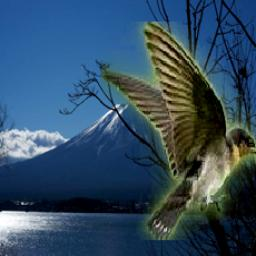Swallow: (102, 23, 256, 241)
